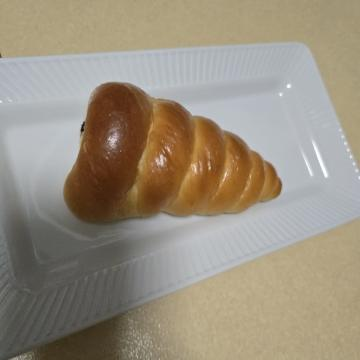cream horn: (68, 62, 256, 308)
